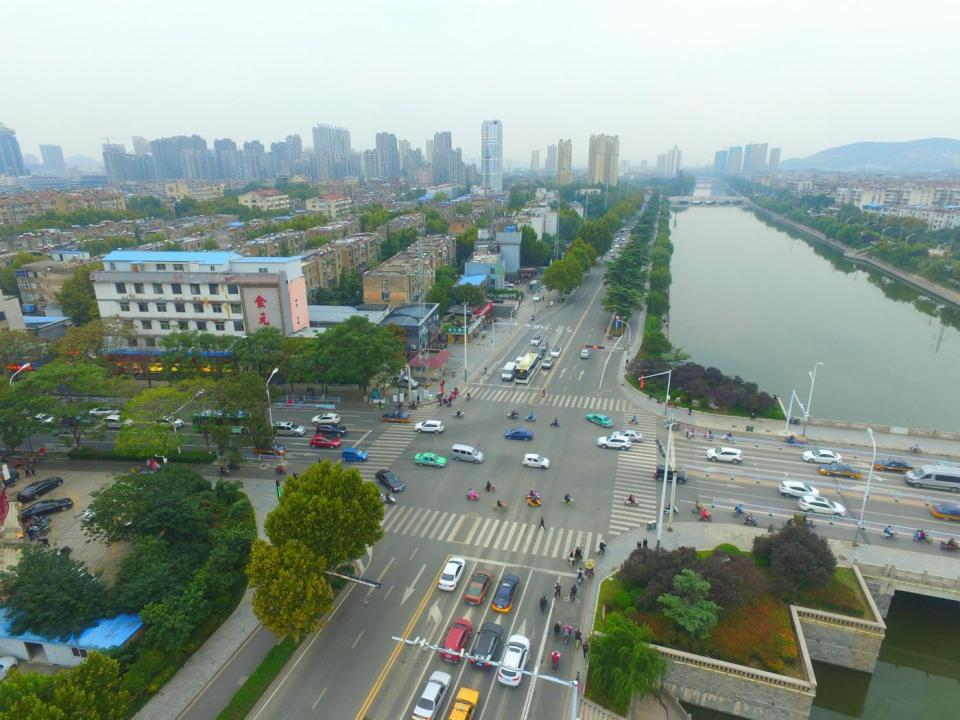bus: (190, 407, 269, 434), (514, 352, 540, 384), (621, 226, 626, 234)
car: (411, 670, 452, 720), (58, 563, 107, 601), (497, 634, 532, 686), (470, 622, 504, 669), (440, 619, 472, 663), (109, 515, 161, 542), (797, 493, 847, 519), (21, 497, 74, 521), (16, 476, 63, 501), (464, 566, 493, 606), (447, 685, 480, 720), (79, 497, 118, 525), (492, 574, 520, 613), (126, 467, 171, 490), (438, 558, 466, 591), (777, 479, 821, 499), (799, 446, 842, 465), (653, 464, 691, 485), (869, 456, 914, 473), (704, 445, 744, 464), (817, 462, 861, 479), (374, 468, 404, 492), (253, 440, 287, 457), (25, 412, 60, 428), (520, 452, 552, 469), (597, 435, 632, 450), (308, 435, 342, 450), (413, 452, 447, 467), (314, 422, 347, 437), (86, 406, 122, 419), (59, 413, 94, 426), (414, 420, 444, 434), (584, 413, 614, 427), (152, 416, 184, 429), (310, 413, 342, 426), (101, 416, 134, 428), (380, 410, 413, 422), (340, 448, 368, 462), (505, 427, 532, 441), (612, 430, 643, 442), (541, 356, 555, 369), (513, 355, 525, 370), (549, 346, 561, 358), (578, 348, 591, 359), (532, 348, 545, 359), (530, 334, 542, 345), (488, 296, 504, 304), (500, 280, 514, 288), (539, 342, 550, 351), (532, 293, 542, 302), (500, 286, 512, 291), (609, 248, 614, 253), (614, 244, 620, 248), (624, 227, 629, 231), (622, 236, 626, 240), (616, 232, 620, 236), (610, 253, 615, 256), (614, 237, 617, 242), (618, 241, 622, 244), (616, 237, 620, 239)
van: (904, 462, 959, 493), (451, 443, 484, 464), (270, 420, 307, 437), (390, 373, 420, 390), (502, 362, 517, 381)
